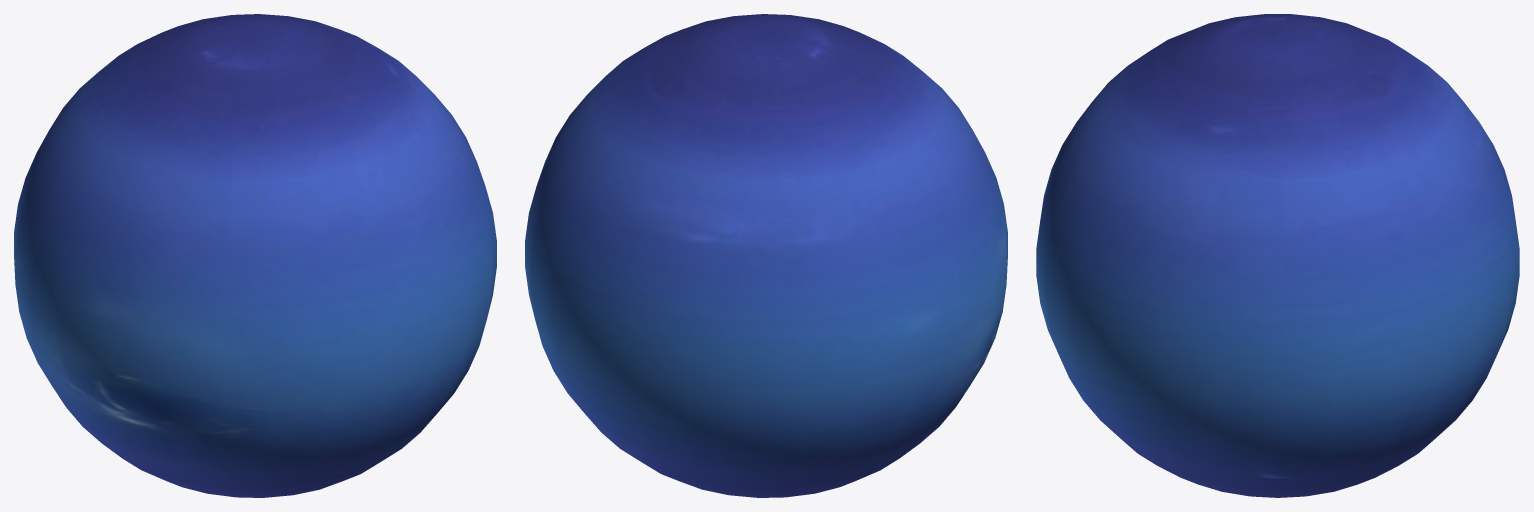
The model's file is neptune.obj.
3 renders of one model, left to right at view 1: azimuth 30°, elevation 25°; view 2: azimuth 150°, elevation 25°; view 3: azimuth 270°, elevation 25°, orthographic.
Visible parts, largest first — view 1: neptune; view 2: neptune; view 3: neptune.
Boxes of the visible parts, x1,y1,x2,y2 form: neptune: (14,14,496,497); neptune: (525,14,1007,497); neptune: (1036,14,1519,497).
Size of the model in its own units: 38.71 by 38.94 by 38.78.
Materials: 1 (1 with a texture image).
